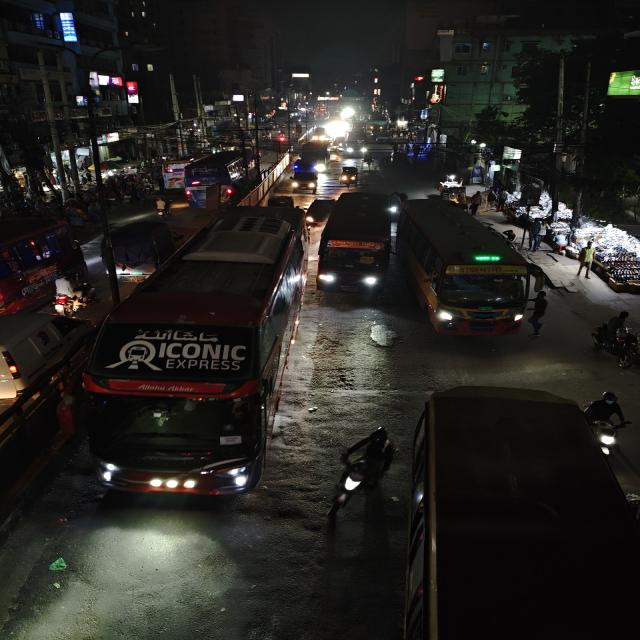bus: (80, 212, 302, 503), (403, 383, 638, 640), (396, 200, 548, 336), (0, 213, 87, 319), (315, 189, 395, 300), (183, 150, 248, 206)
car: (0, 309, 75, 413)
cng: (339, 166, 361, 186)
motorcycle: (318, 413, 392, 518), (578, 390, 630, 460), (590, 323, 640, 373), (49, 276, 97, 316)
pedestrian: (576, 239, 600, 276), (152, 194, 174, 220)
pickup_van: (100, 218, 177, 280)
truck: (288, 158, 319, 191)
